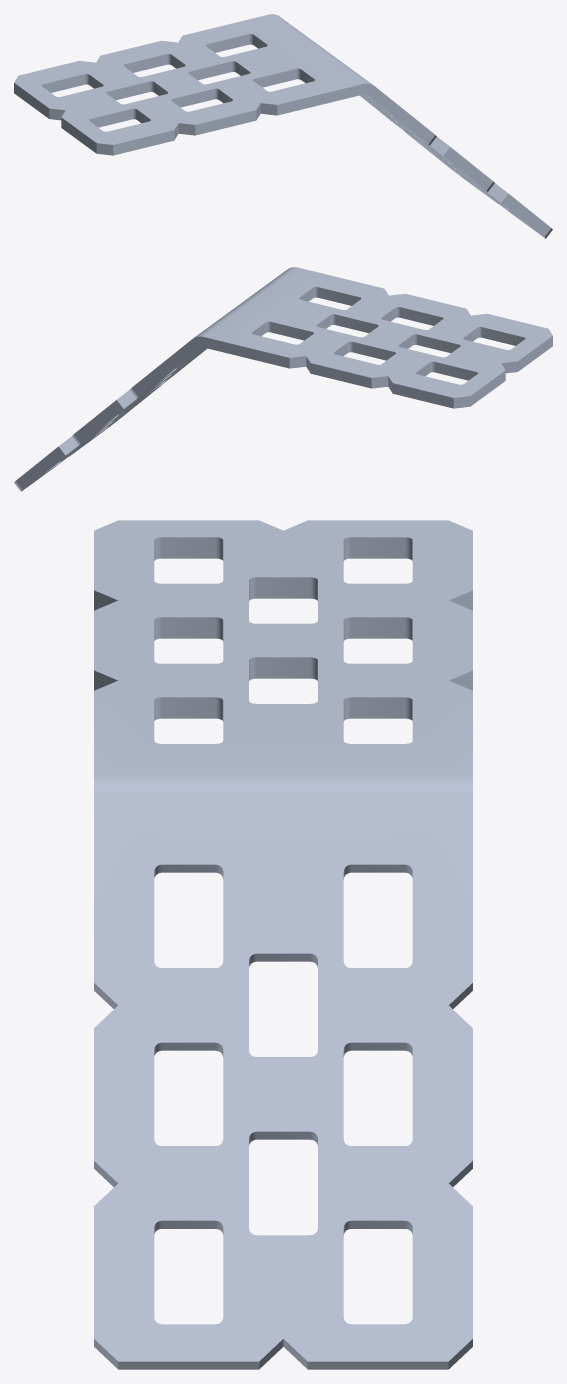
Rendered from 45 Degree Bent Gusset (276-7759-002).glb.
3 renders of one model, top to bottom at view 1: azimuth 30°, elevation 25°; view 2: azimuth 150°, elevation 25°; view 3: azimuth 270°, elevation 25°, orthographic. The views are drawn at different scales.
Visible parts, largest first — view 1: 276-7759-002 Rev1; view 2: 276-7759-002 Rev1; view 3: 276-7759-002 Rev1.
Boxes of the visible parts, <box> form: 276-7759-002 Rev1: <box>14,14,552,238</box>; 276-7759-002 Rev1: <box>14,267,552,491</box>; 276-7759-002 Rev1: <box>94,520,472,1369</box>.
Bounding box in the file's own units: 0.0706 × 0.0304 × 0.0254.
